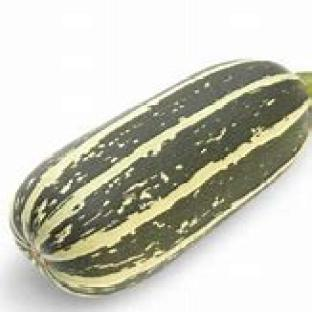Zucchini: (12, 61, 310, 294)
